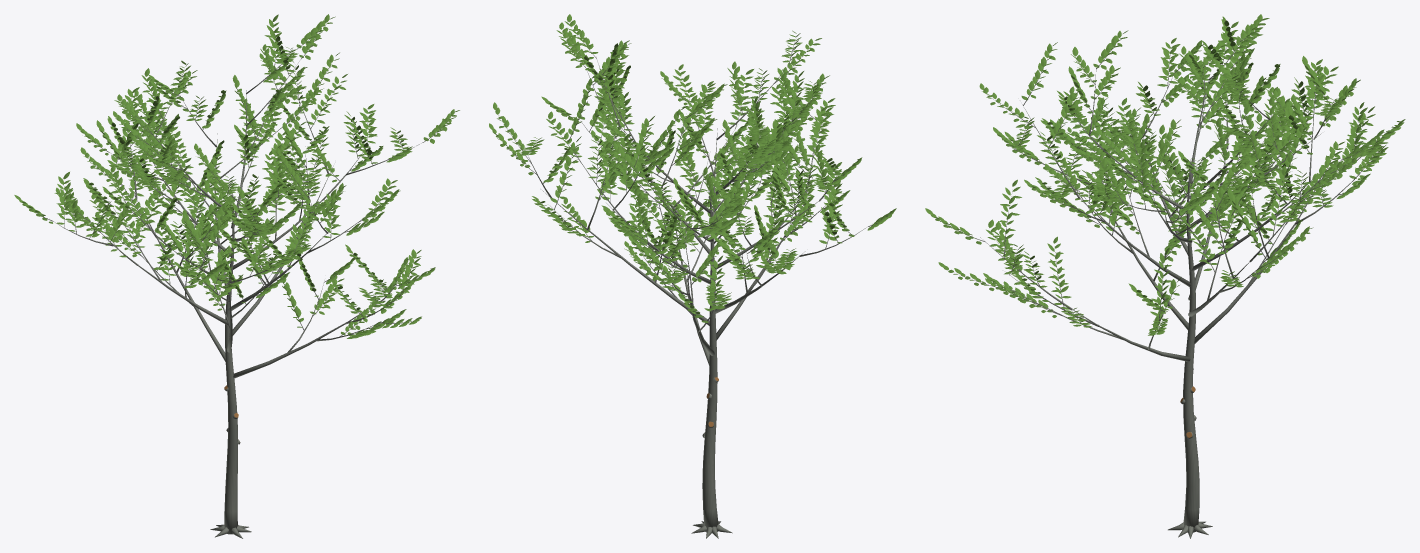
File: Beech_Mature_02_MediumPruned_Recent_LOD0.fbx
3 views of the same model, side by side, from view 1: azimuth 30°, elevation 25°; view 2: azimuth 150°, elevation 25°; view 3: azimuth 270°, elevation 25° (orthographic). The views are drawn at different scales.
Parts seen in each view (by area): view 1: Beech_Mature_02_MediumPruned_Recent_LOD0; view 2: Beech_Mature_02_MediumPruned_Recent_LOD0; view 3: Beech_Mature_02_MediumPruned_Recent_LOD0.
Part boxes in pixels (left/top/right/bottom): Beech_Mature_02_MediumPruned_Recent_LOD0: left=14, top=14, right=459, bottom=538; Beech_Mature_02_MediumPruned_Recent_LOD0: left=489, top=14, right=896, bottom=538; Beech_Mature_02_MediumPruned_Recent_LOD0: left=925, top=14, right=1405, bottom=538.
Bounding box in the file's own units: 1936 × 2301 × 1926.
Materials: 3 (2 with a texture image).
